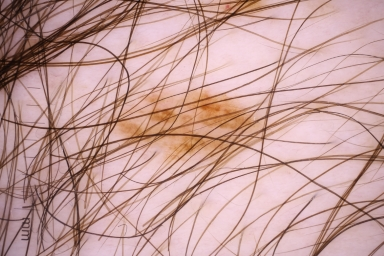nevus: (111, 93, 258, 148)
